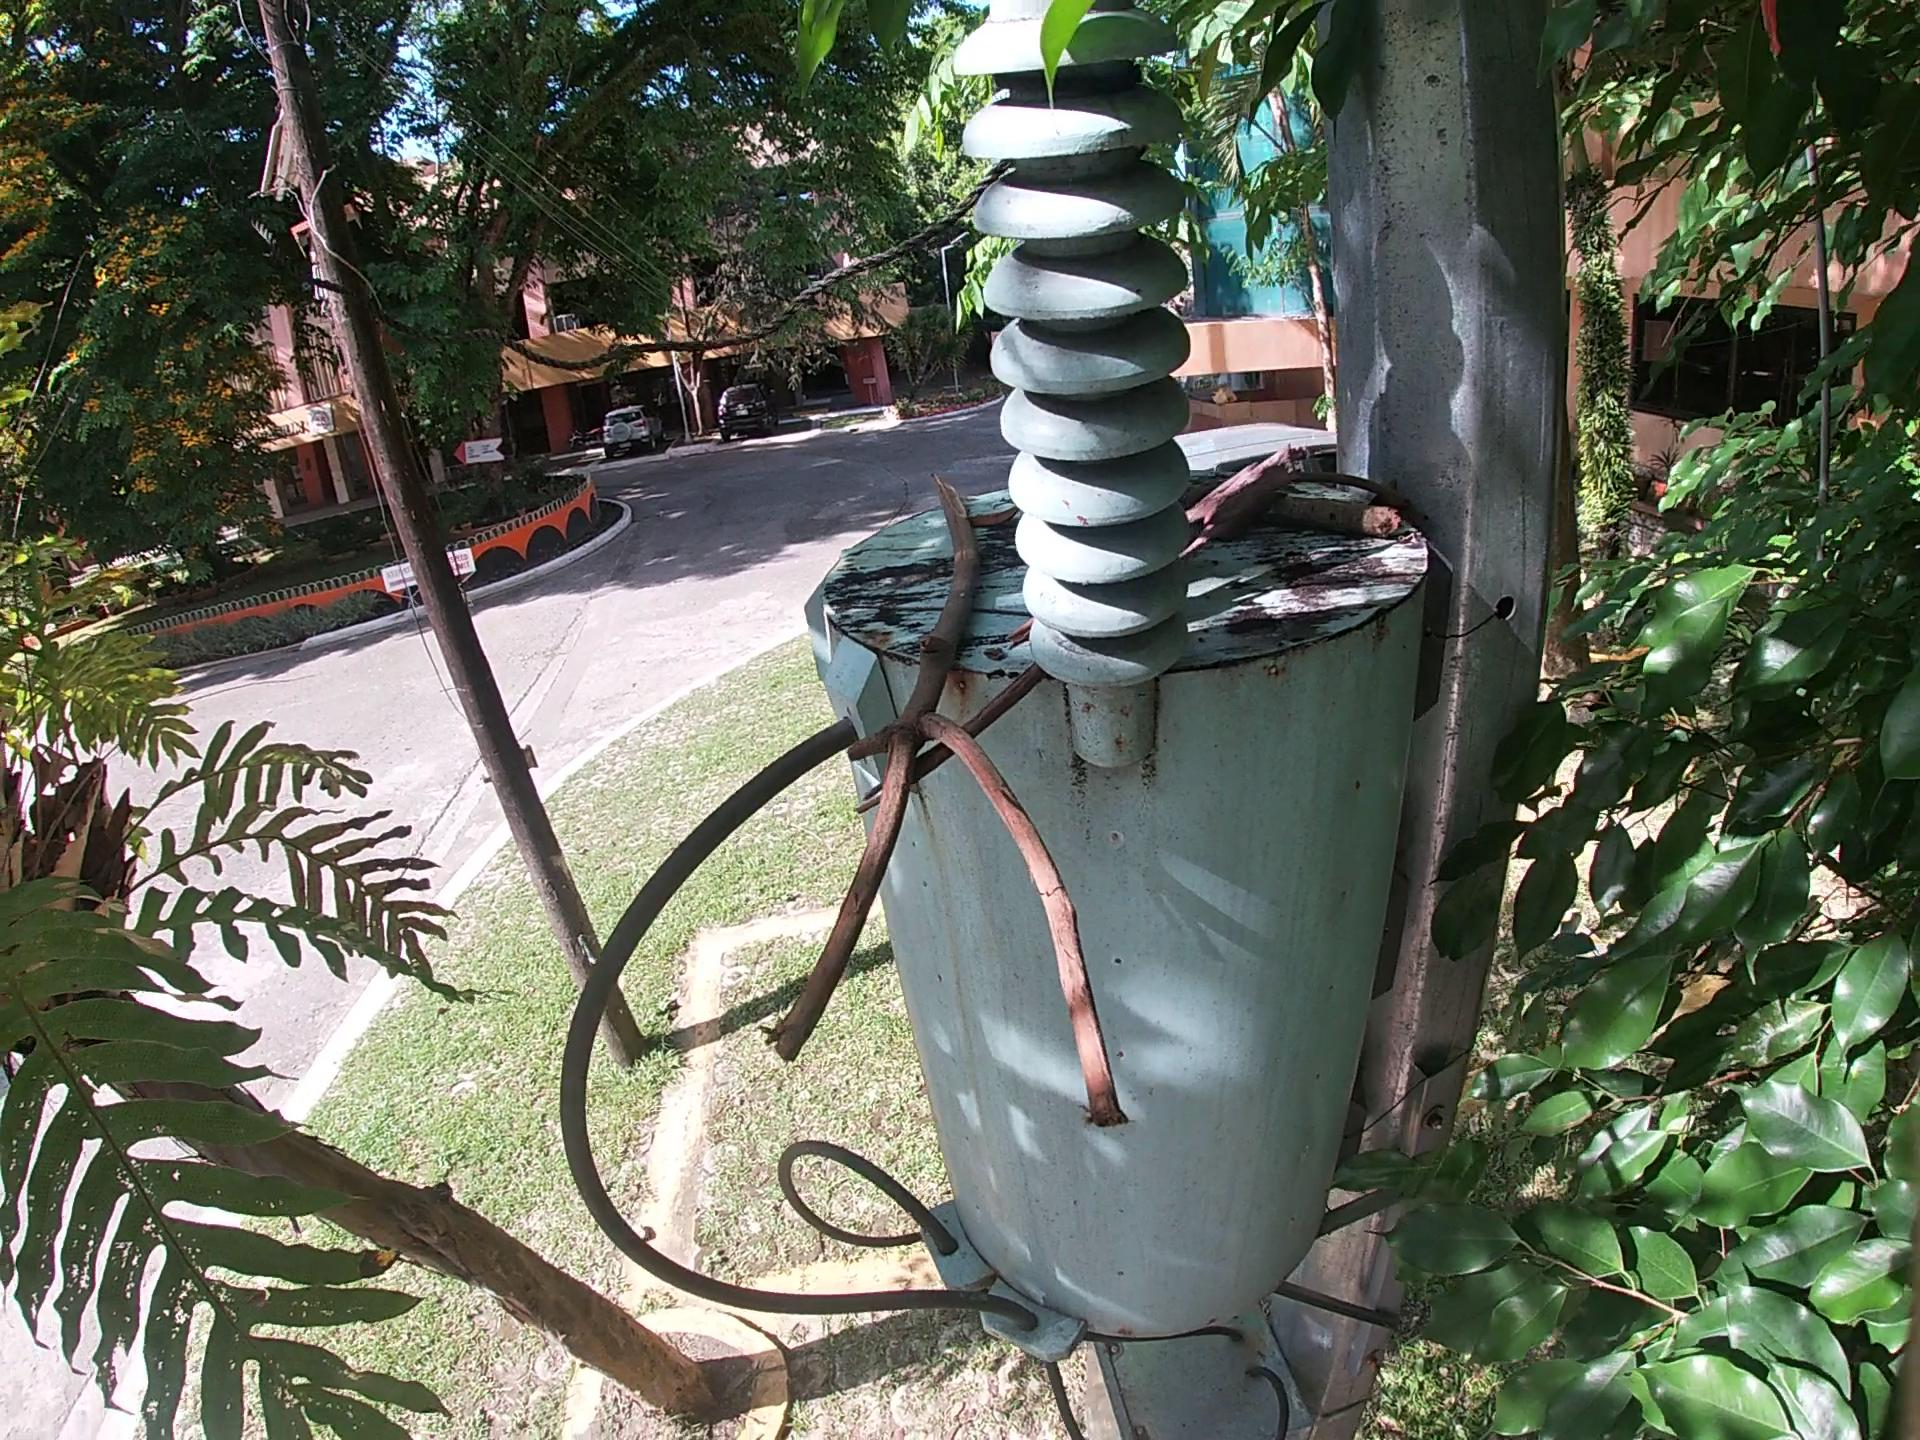mahogany fruit: (958, 501, 1027, 529)
tree branch: (813, 467, 1157, 1159), (847, 675, 1058, 812), (1178, 446, 1312, 546), (1256, 490, 1414, 545), (866, 597, 1030, 629), (1293, 470, 1421, 496), (1005, 622, 1048, 655)
